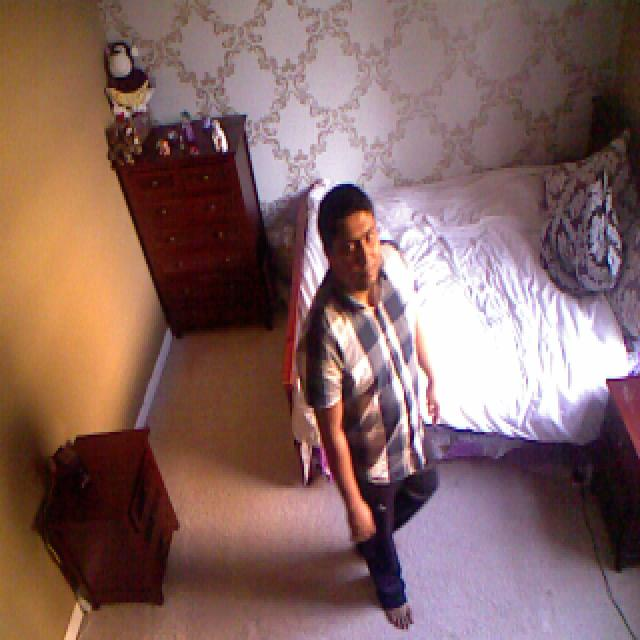standing: (300, 181, 454, 640)
